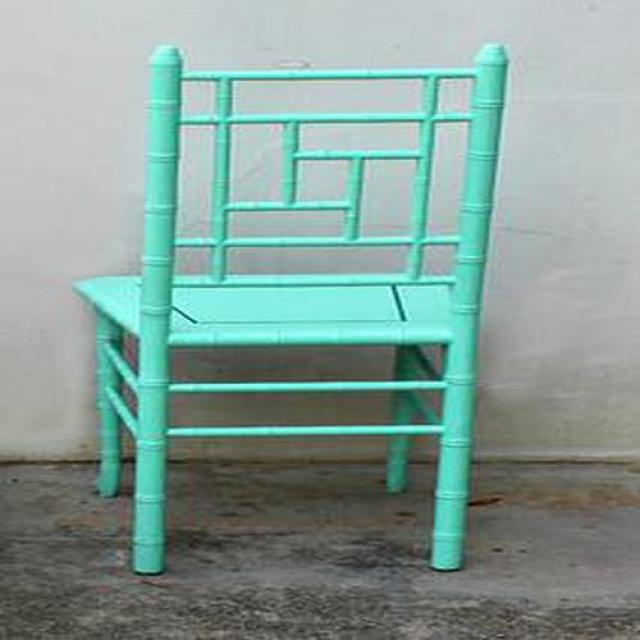chair: (73, 46, 511, 577)
